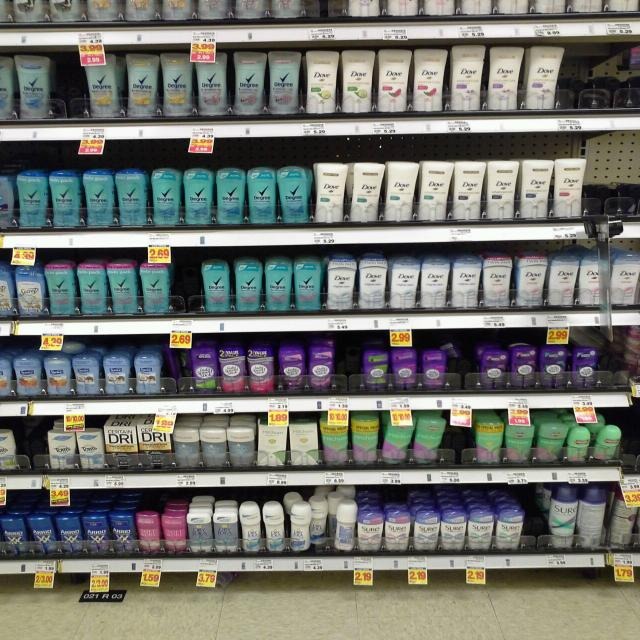empty: (554, 47, 640, 114), (581, 151, 639, 220), (162, 247, 201, 316), (50, 58, 86, 129), (522, 480, 555, 553), (447, 409, 477, 464), (336, 339, 364, 389)
